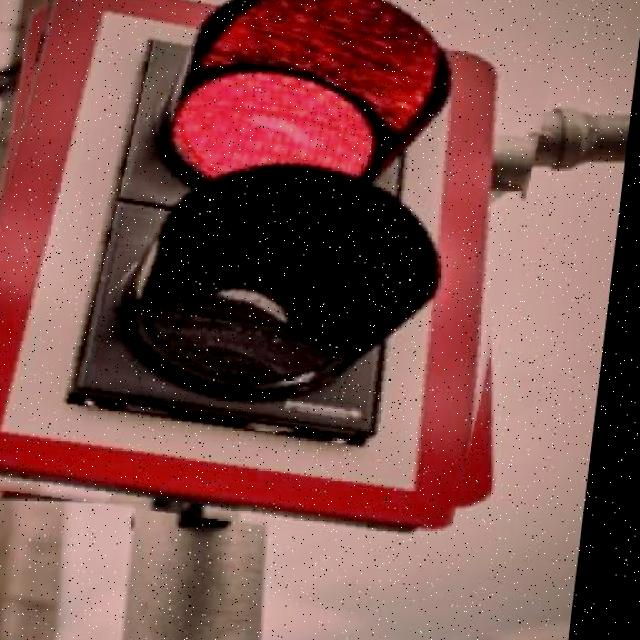Lampu Merah: (0, 0, 558, 536)
